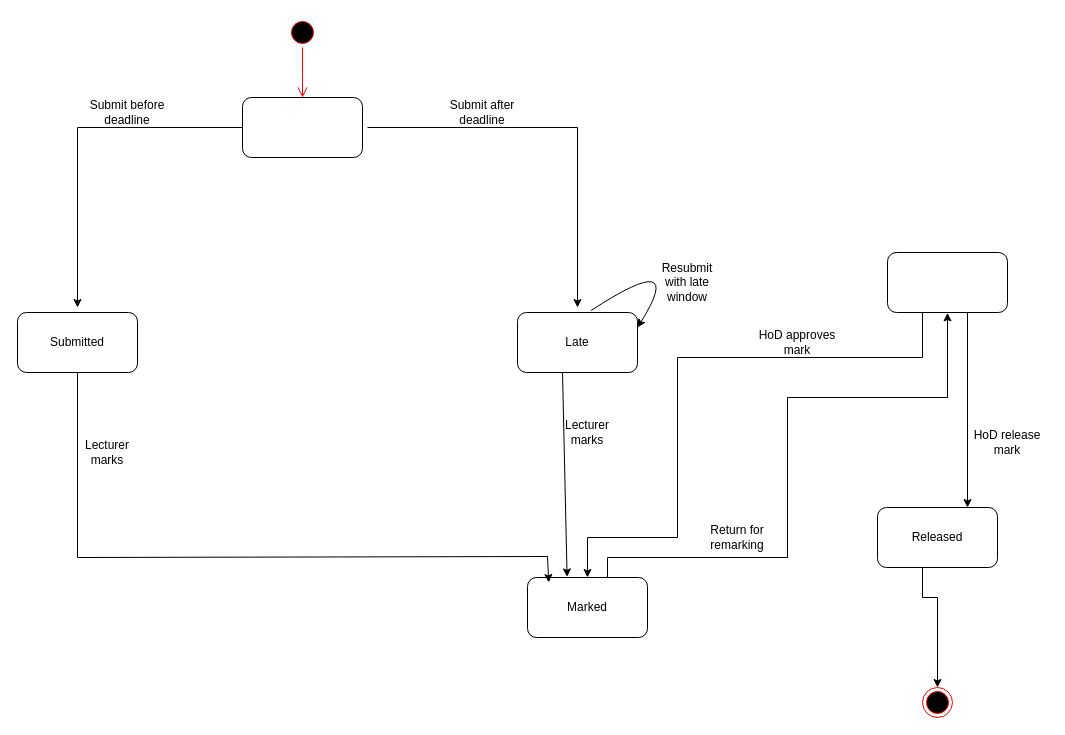
This 1065x735 diagram has some shape labels left out. The shapes that lost their labels are listed below. From the top down, each one's box as (x1, y1, x2, y2) in pixels, then its label:
(242, 96, 362, 158): NotSubmitted
(886, 252, 1008, 312): Moderated
